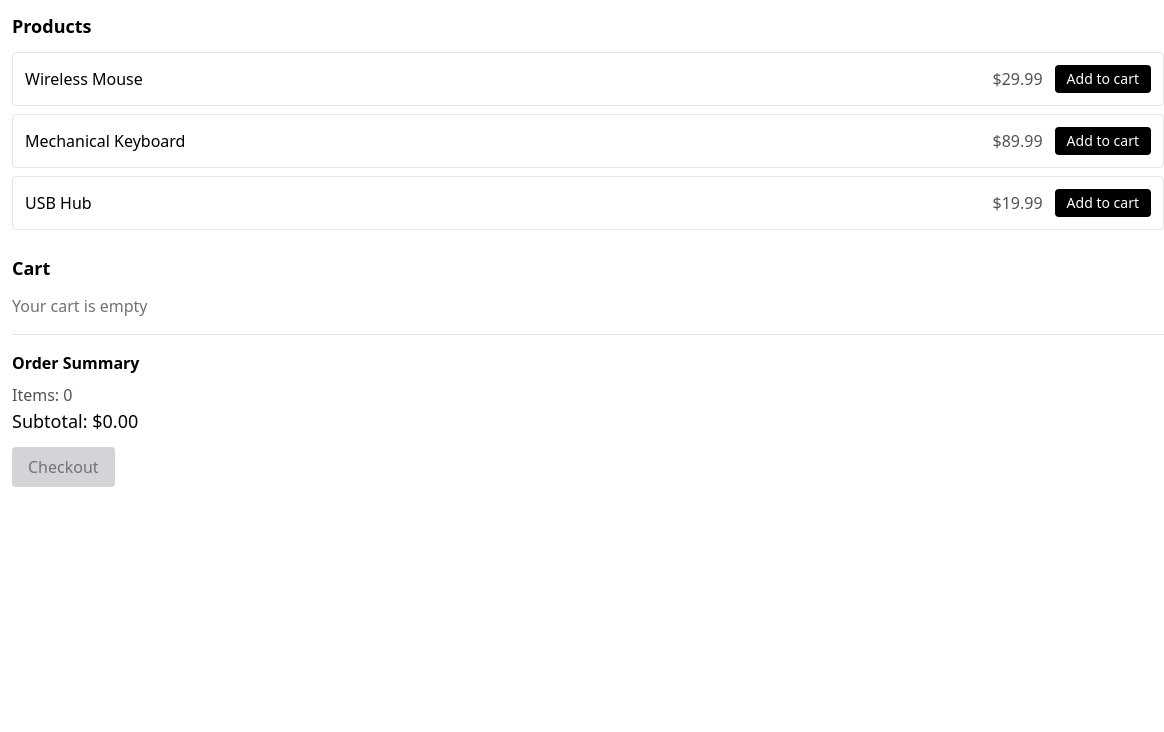
Test: ShoppingCart (integration) › adds product to cart and updates summary
Expected: the text "Wireless Mouse" is shown, [25, 67, 143, 91]
Step 1. Click the button "Add to cart" next to "29.99" → (1103, 79), box [1055, 65, 1151, 93]
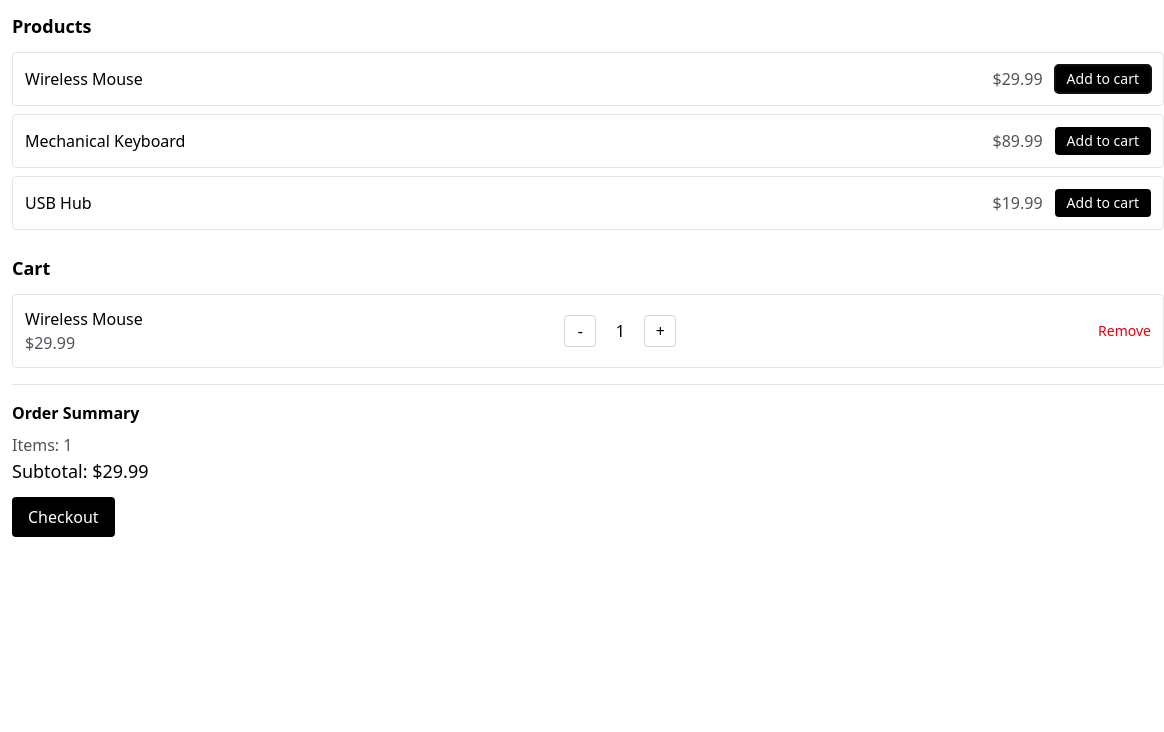
Now the text "Items: 1" is shown, box [12, 434, 72, 456]
Now the text "Subtotal: $29.99" is shown, box [12, 459, 148, 483]
Now the text named "Wireless Mouse quantity" reads "1", box [616, 320, 625, 342]
